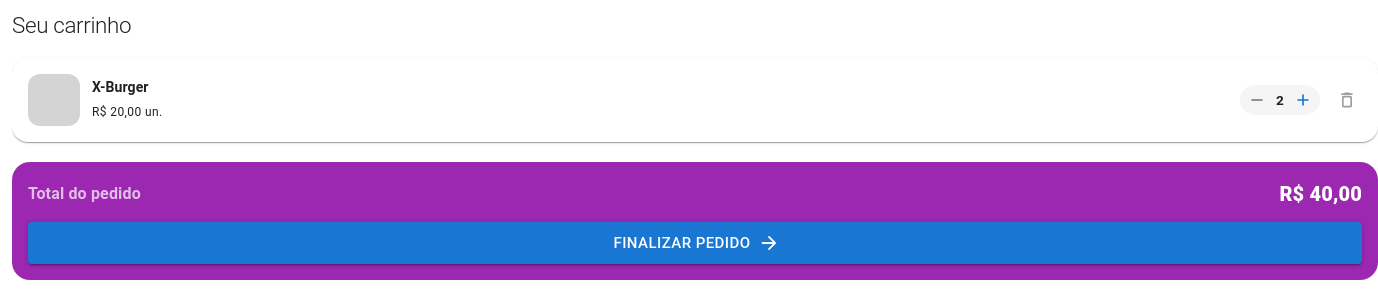
it: CartPage › diminuir a quantidade reduz o total
Click the button named "Diminuir quantidade de X-Burger". click: [1257, 100]
box: [1242,85,1272,115]
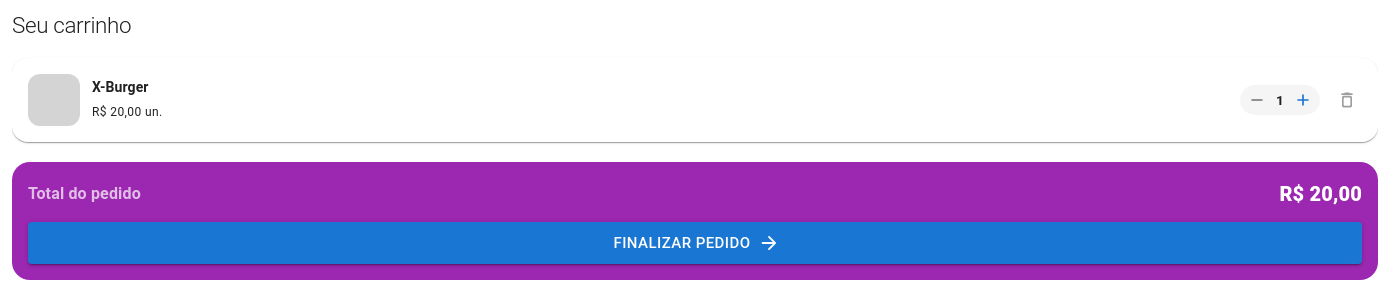
Check: the heading "R$ 20,00" is shown, box [1279,178,1362,210]
